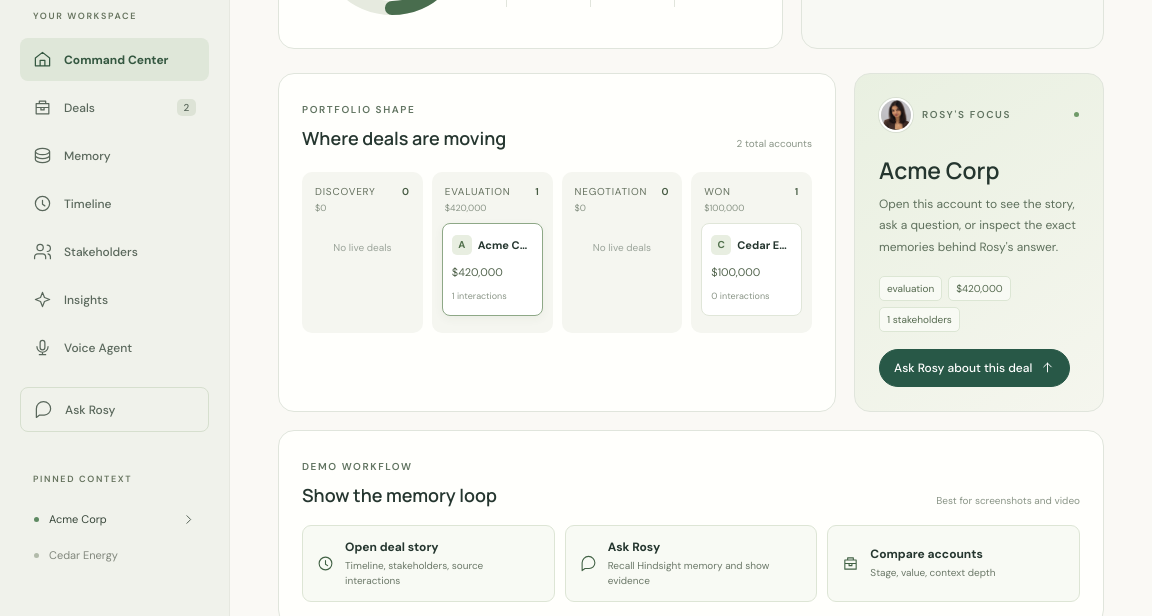
DealMind workflows › asks for a real stakeholder's changing concerns
(page scrolled)
Click the button "A Acme Corp $420,000 1 interactions" at (492, 269), box [442,223,543,316]
(page scrolled)
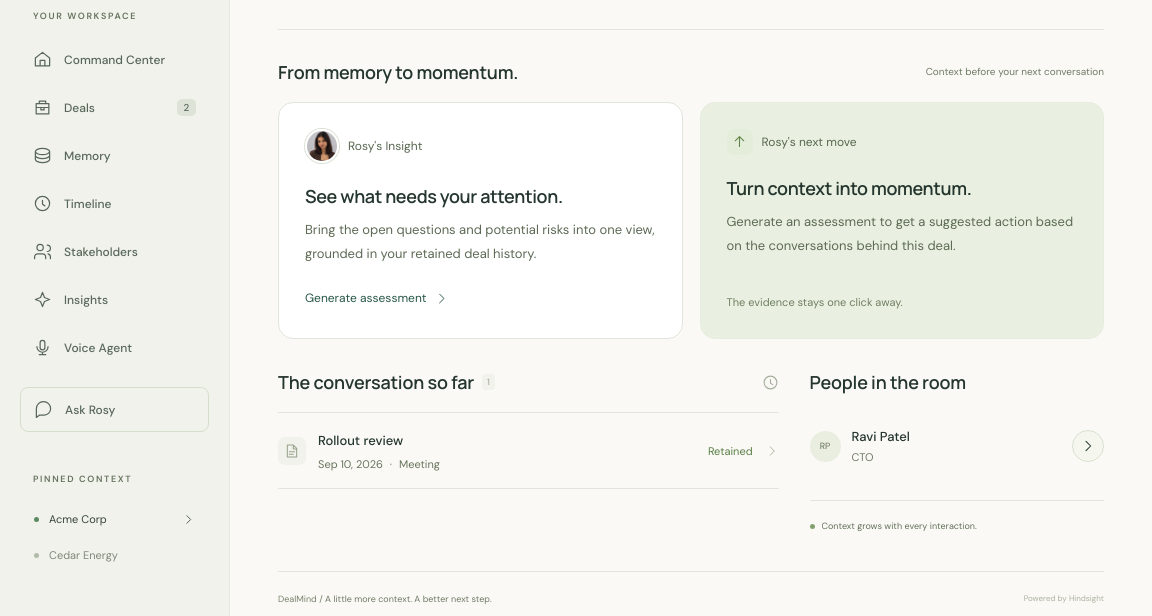
Click the button named "View Ravi Patel's context" at (1088, 446), box [1072,430,1104,462]
(page scrolled)
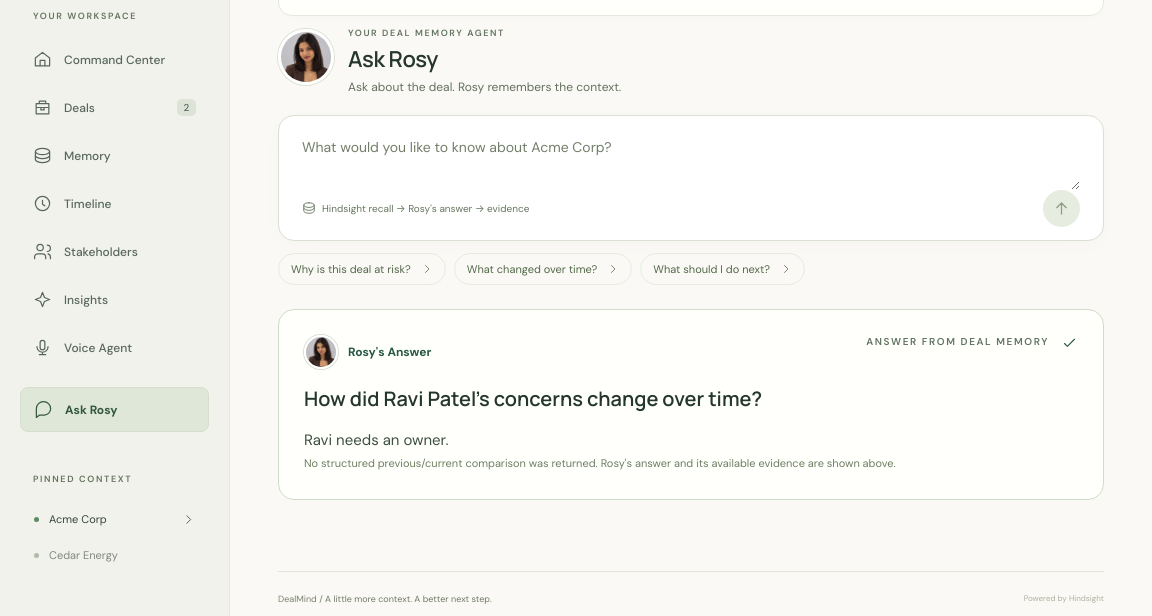
Expected: the text "Ravi needs an owner." is shown, [304,430,448,450]
